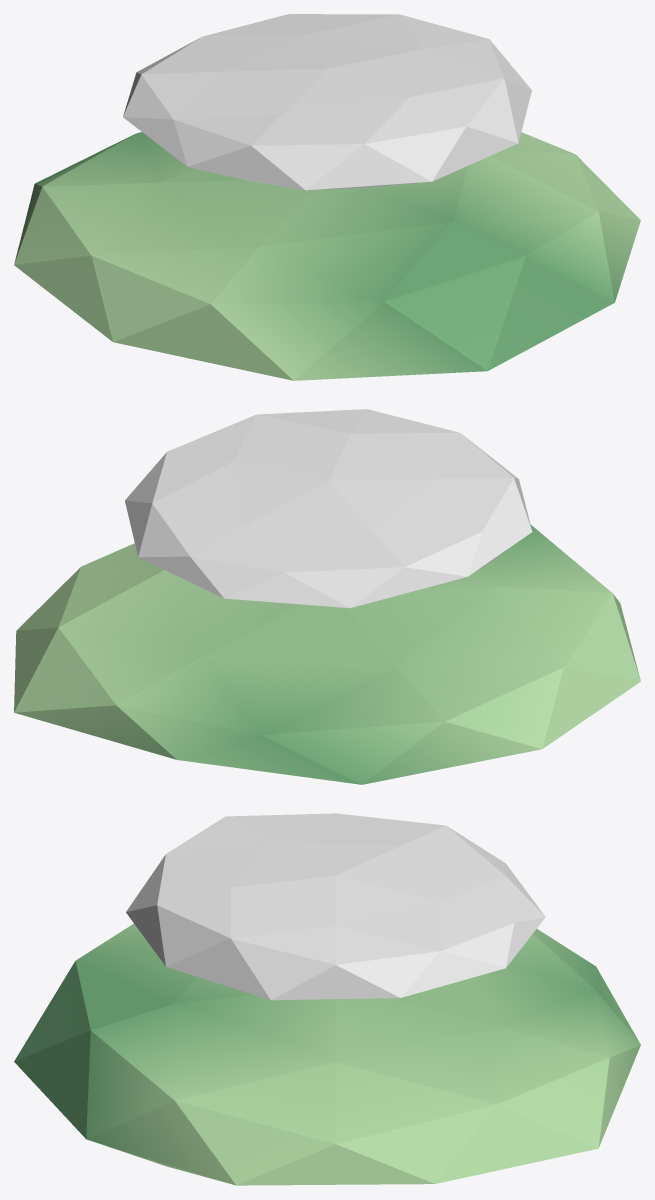
The model's file is island_test_2.fbx.
3 views of the same model, one above another, from view 1: azimuth 30°, elevation 25°; view 2: azimuth 150°, elevation 25°; view 3: azimuth 270°, elevation 25° (orthographic).
Parts seen in each view (by area): view 1: Sable, Terre; view 2: Sable, Terre; view 3: Sable, Terre.
Boxes of the visible parts, x1=… form: Sable: x1=14, y1=132, x2=640, y2=380; Terre: x1=123, y1=14, x2=531, y2=190; Sable: x1=14, y1=525, x2=640, y2=784; Terre: x1=125, y1=409, x2=532, y2=608; Sable: x1=14, y1=924, x2=640, y2=1185; Terre: x1=126, y1=813, x2=545, y2=1000.
Bounding box in the file's own units: 1103 × 419 × 1130.
